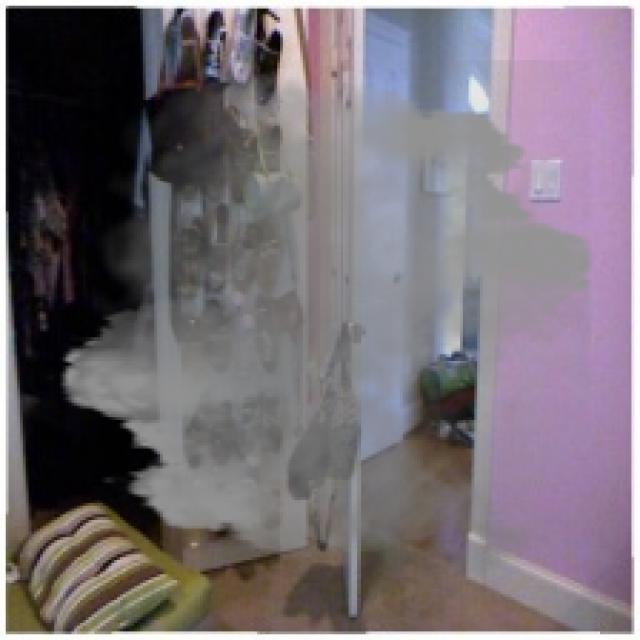smoke: (43, 60, 611, 594)
